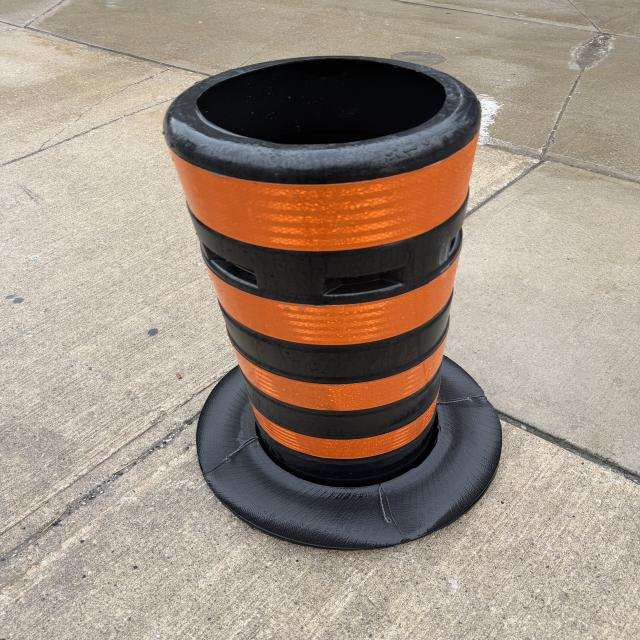Teraffic Barrel: (165, 56, 501, 548)
